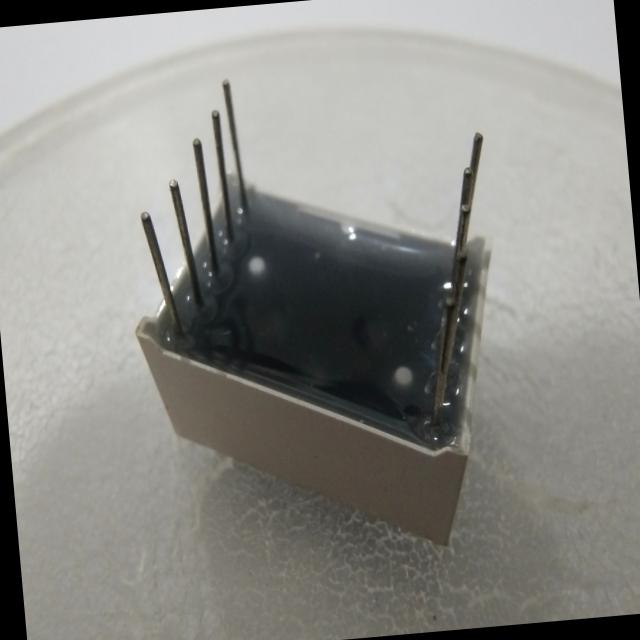7_segments: (102, 34, 532, 582)
